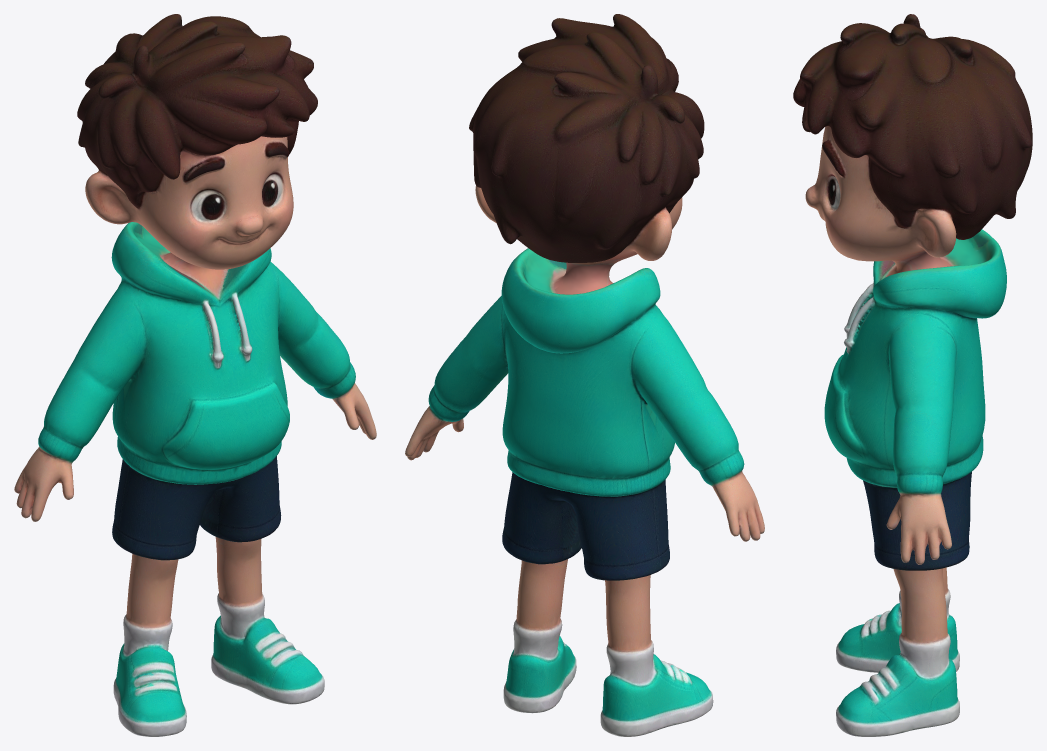
Rendered from Can.obj.
3 renders of one model, left to right at view 1: azimuth 30°, elevation 25°; view 2: azimuth 150°, elevation 25°; view 3: azimuth 270°, elevation 25°, orthographic.
Parts seen in each view (by area): view 1: Can; view 2: Can; view 3: Can.
Boxes of the visible parts, left/top/right/bottom form: Can: left=14, top=14, right=376, bottom=736; Can: left=405, top=14, right=764, bottom=736; Can: left=793, top=14, right=1032, bottom=736.
Size of the model in its own units: 103 by 190 by 61.95.
Materials: 1 (1 with a texture image).
